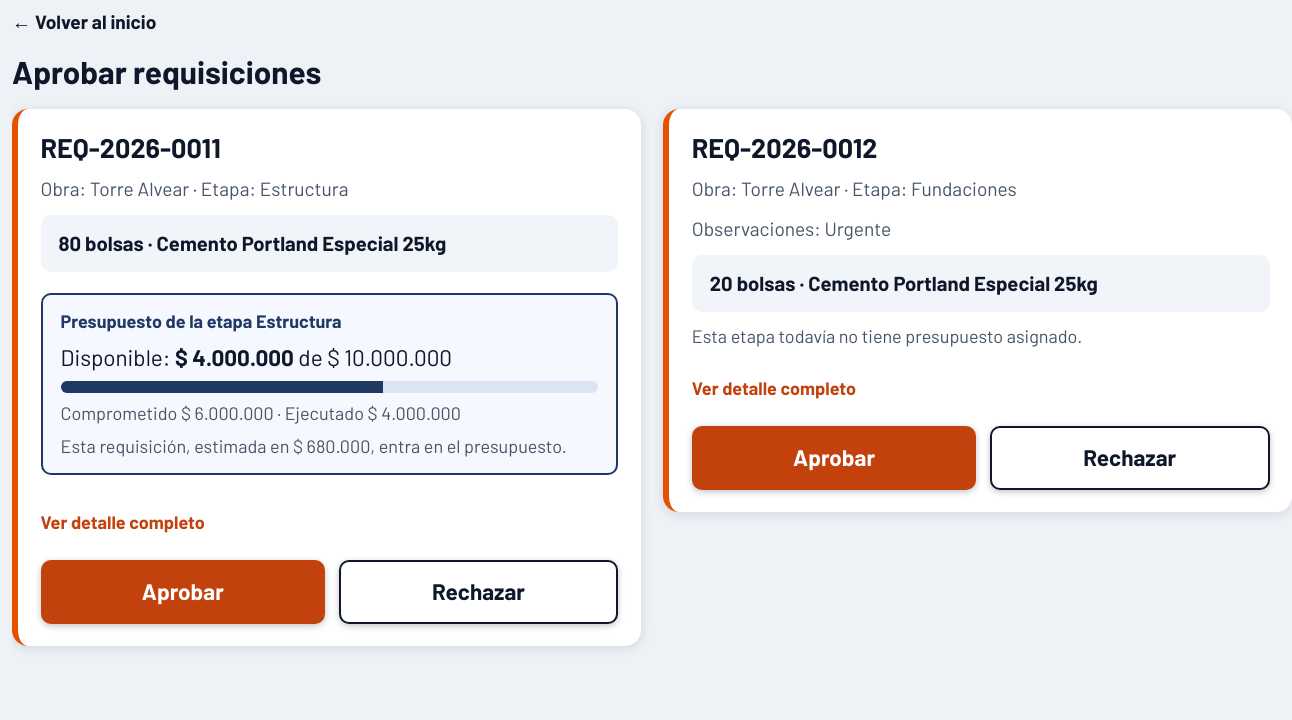
AprobarRequisicionesPage › avisa que no hay permiso ante un 403
expect the heading "REQ-2026-0011" is shown: met, box [40,131,221,163]
Click the button with aria-label "Aprobar REQ-2026-0011".
click(183, 592)  # box [40,560,325,624]
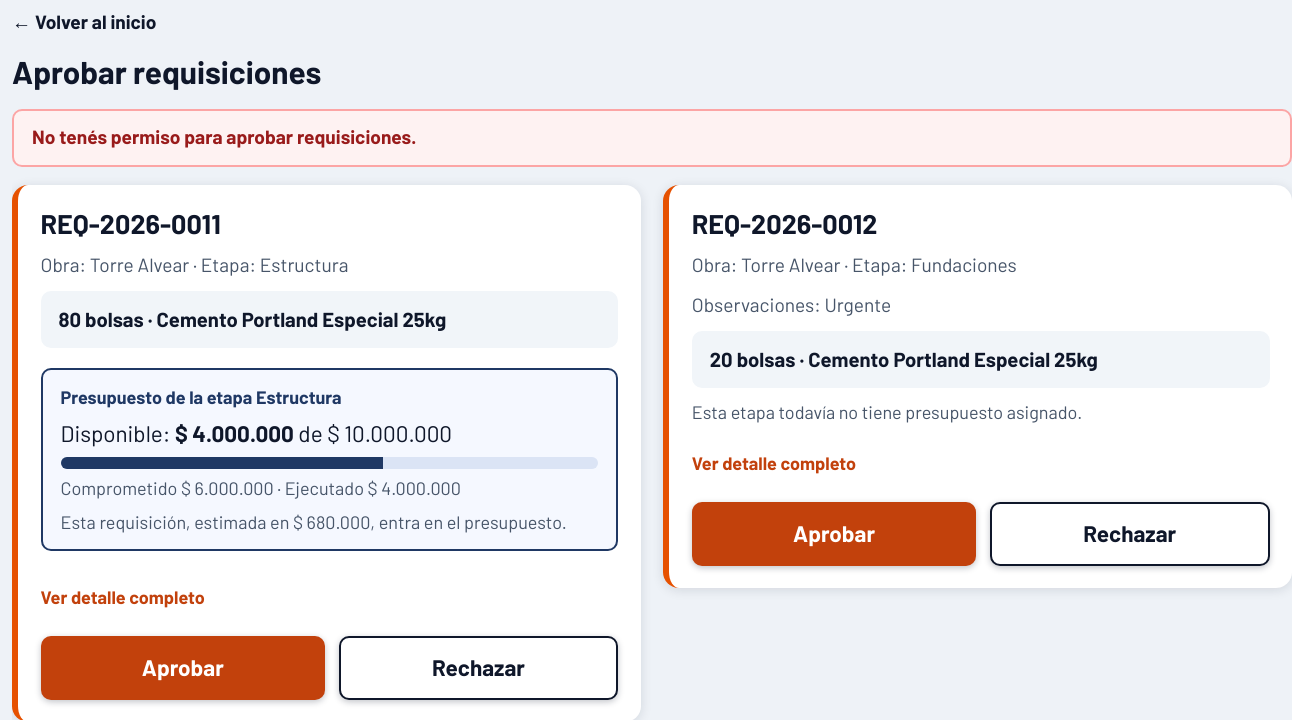
expect the message reads "No tenés permiso para aprobar requisiciones.": met, box [32,125,416,148]
